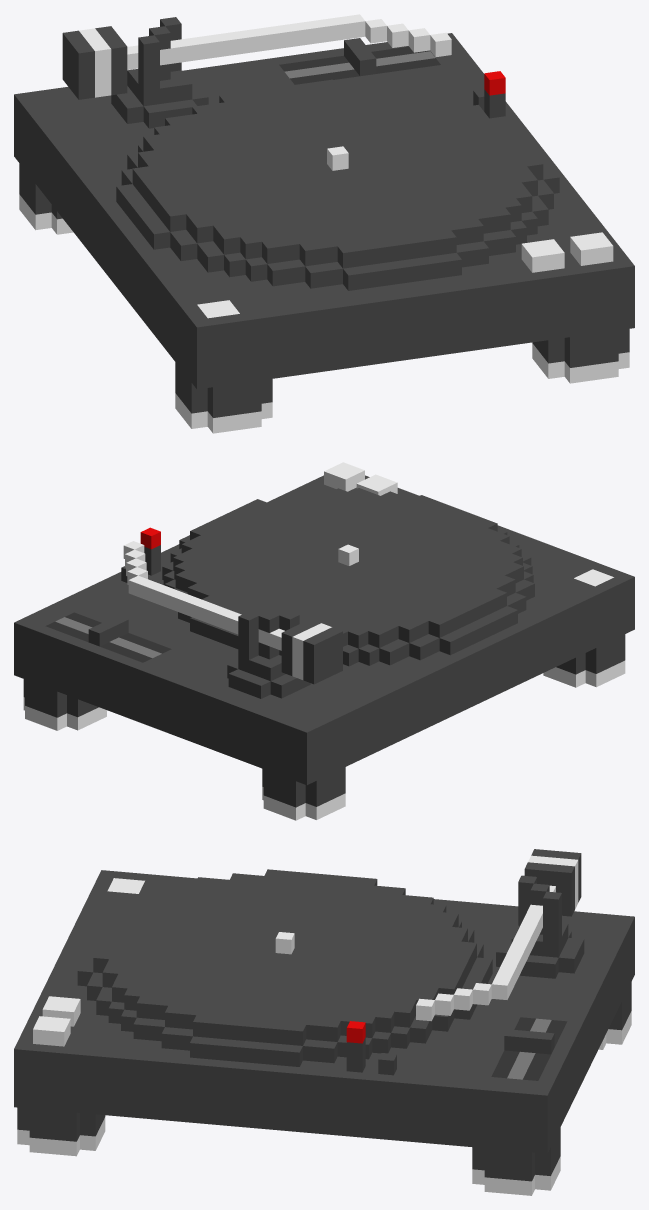
Rendered from turntable_0_lev1_lev3.glb.
3 renders of one model, top to bottom at view 1: azimuth 30°, elevation 25°; view 2: azimuth 150°, elevation 25°; view 3: azimuth 270°, elevation 25°, orthographic. The views are drawn at different scales.
Visible parts, largest first — view 1: turntable_0_lev1_lev3; view 2: turntable_0_lev1_lev3; view 3: turntable_0_lev1_lev3.
Part boxes in pixels (<box>): turntable_0_lev1_lev3: <box>14,14,634,433</box>; turntable_0_lev1_lev3: <box>14,462,634,820</box>; turntable_0_lev1_lev3: <box>14,849,634,1195</box>.
Bounding box in the file's own units: 0.7468 × 0.269 × 0.8687.
1 material, 1 textured.
